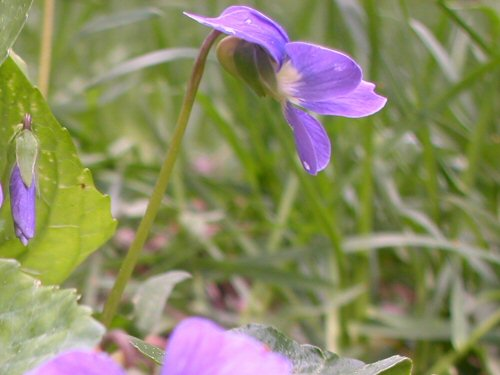violet: (181, 4, 396, 175)
